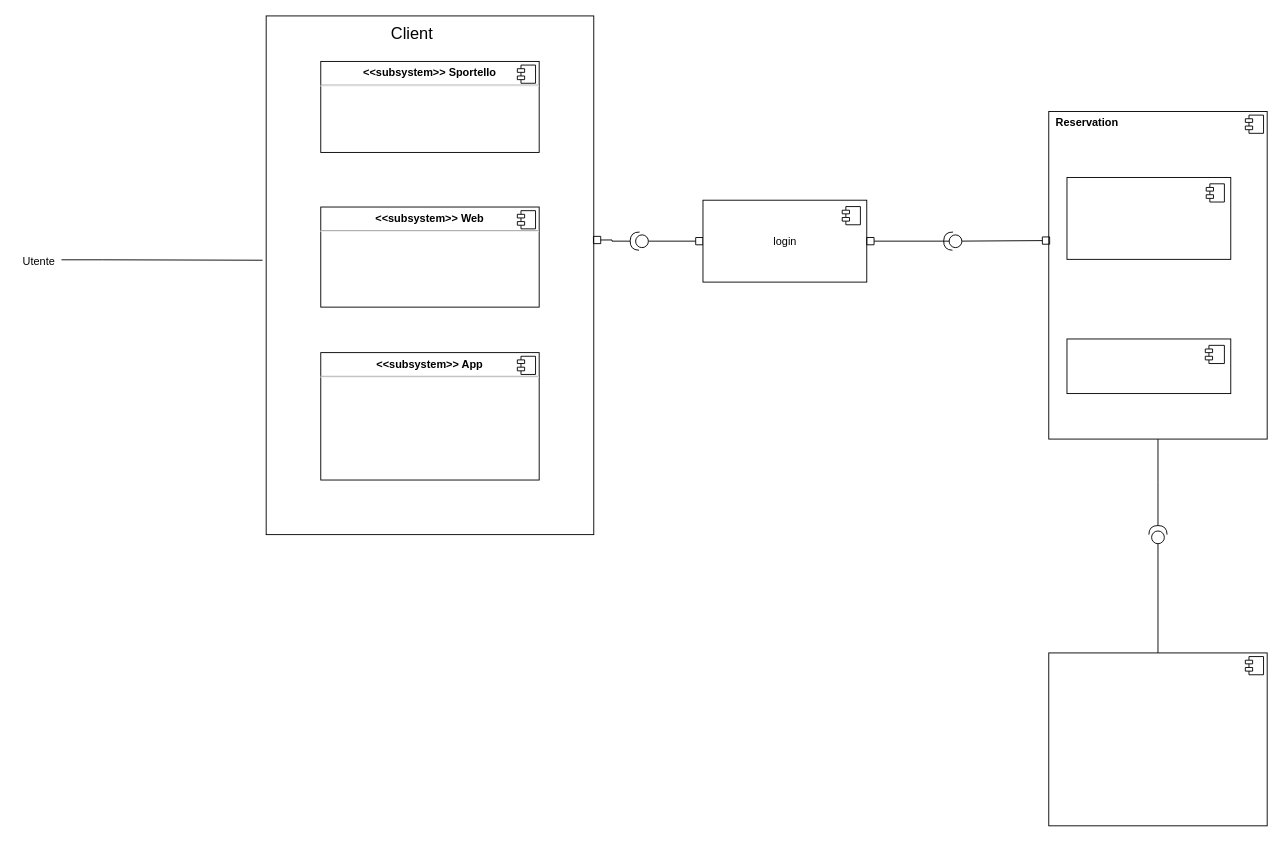
Image size: 1283x842. Some labels were removed from this diagram. Here are the shapes that lost their labels. From the top down, the centre of each, then its label:
point (1148, 218): Esame
point (1148, 366): Visita
point (1157, 739): Database
